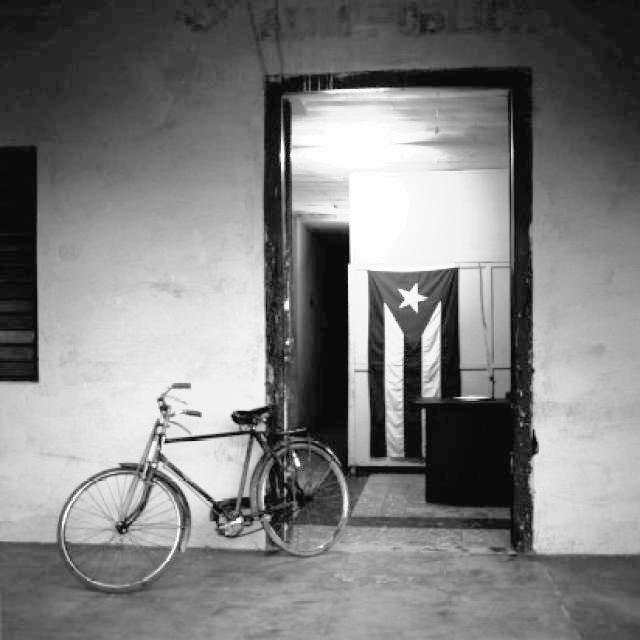Bicycle: (44, 384, 358, 584)
